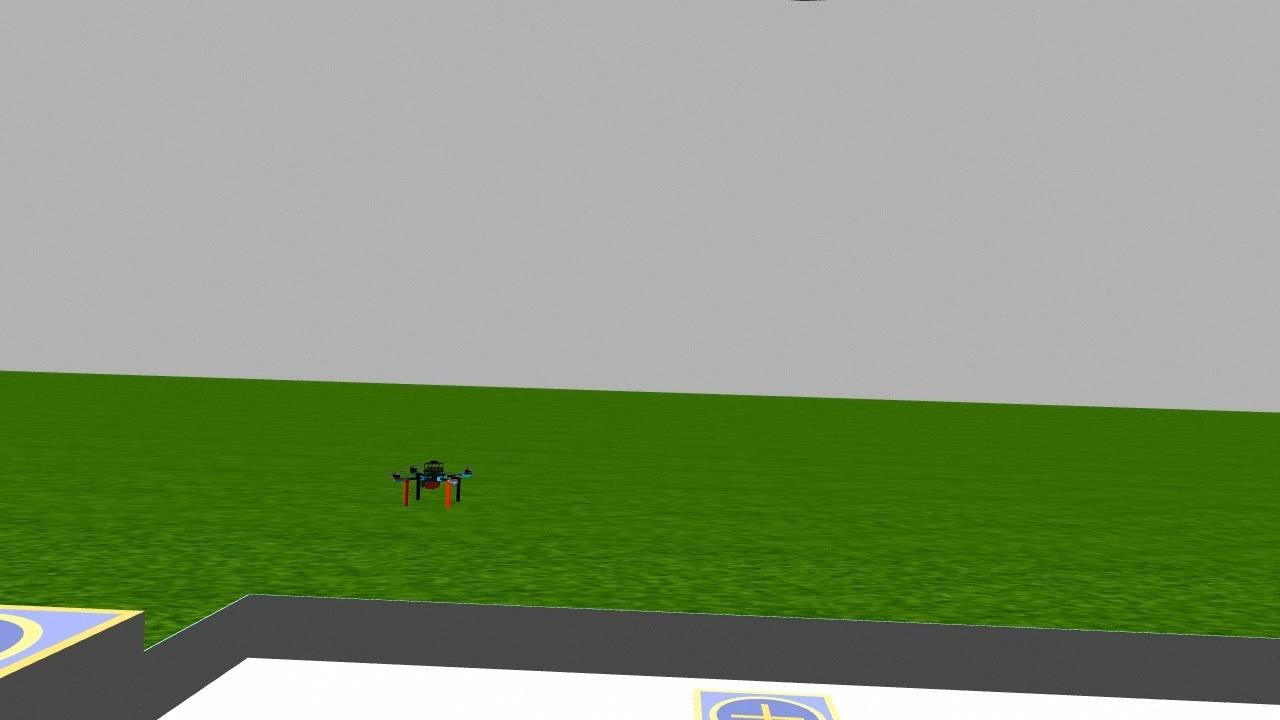UAV: (382, 434, 478, 514)
